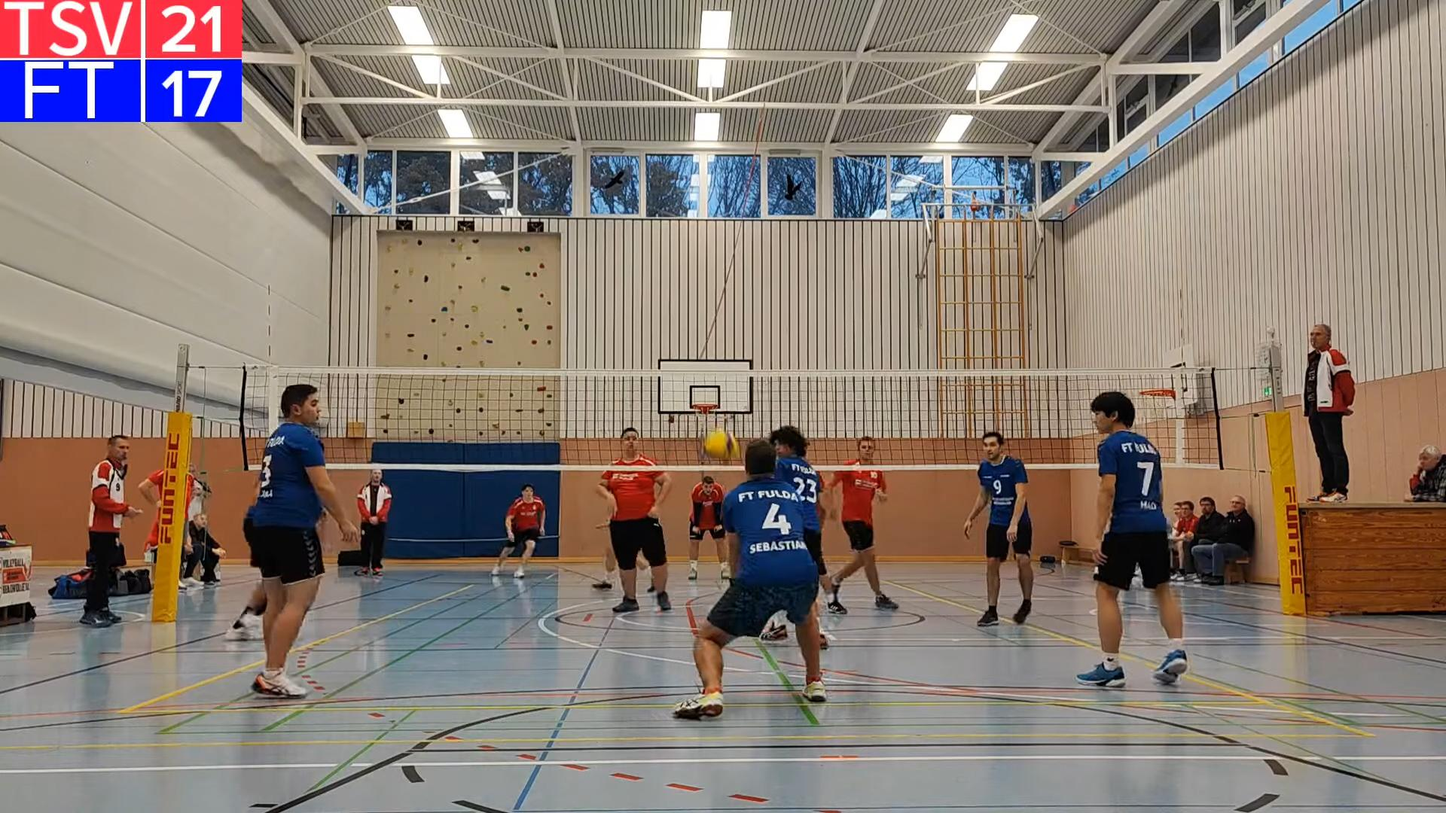Player: (250, 385, 358, 697), (1077, 391, 1187, 687), (597, 427, 671, 611), (964, 431, 1033, 626), (828, 437, 898, 612), (769, 425, 828, 595), (491, 484, 545, 578), (688, 476, 730, 580), (243, 480, 259, 568), (592, 545, 620, 589)
Receive: (672, 438, 831, 719)
ball: (697, 428, 736, 465)
